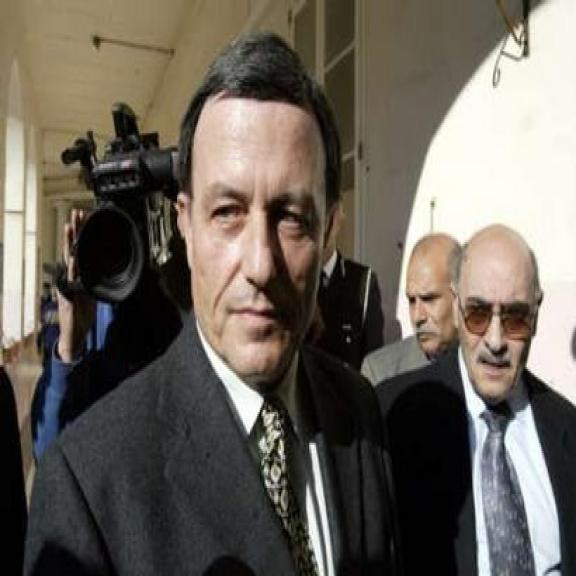face: (176, 103, 344, 377), (450, 249, 549, 400), (408, 242, 452, 360)
